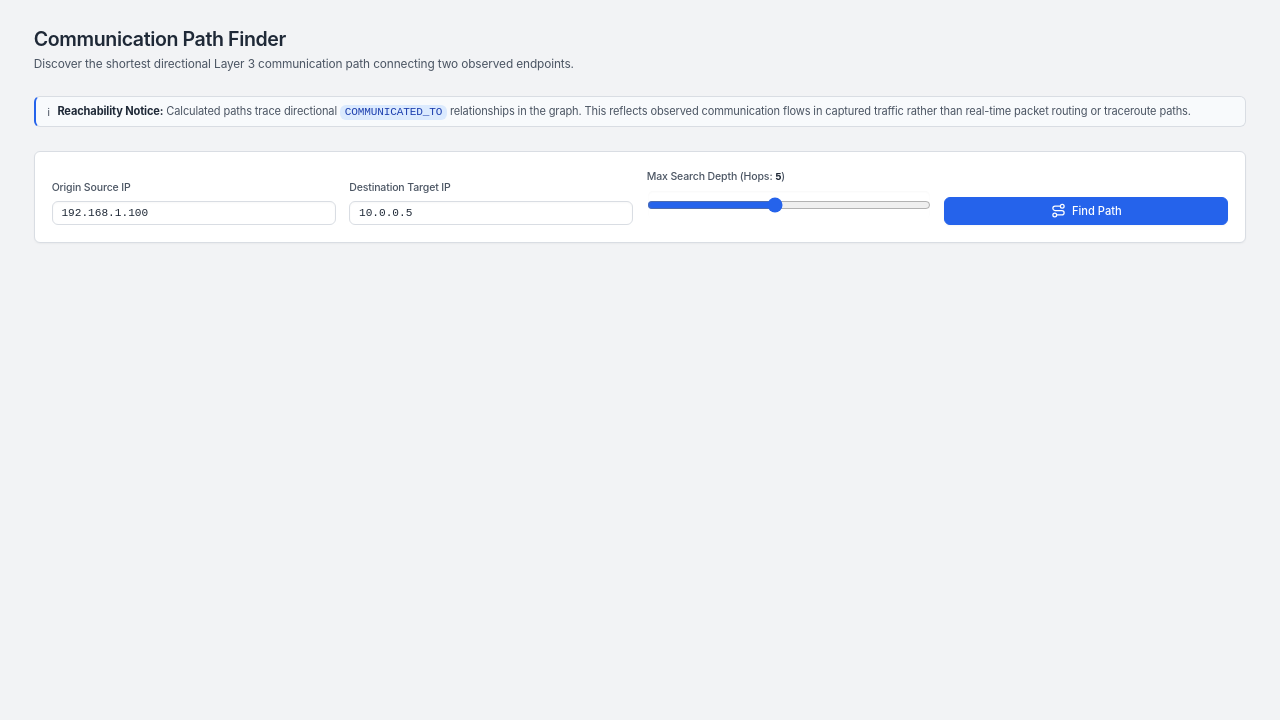
Test: PathFinderPage Component › renders communication path successfully with hop steps and protocols
The width and height of the screenshot is (1280, 720).
Click the button "Find Path": (1086, 211) [944,197,1228,225]
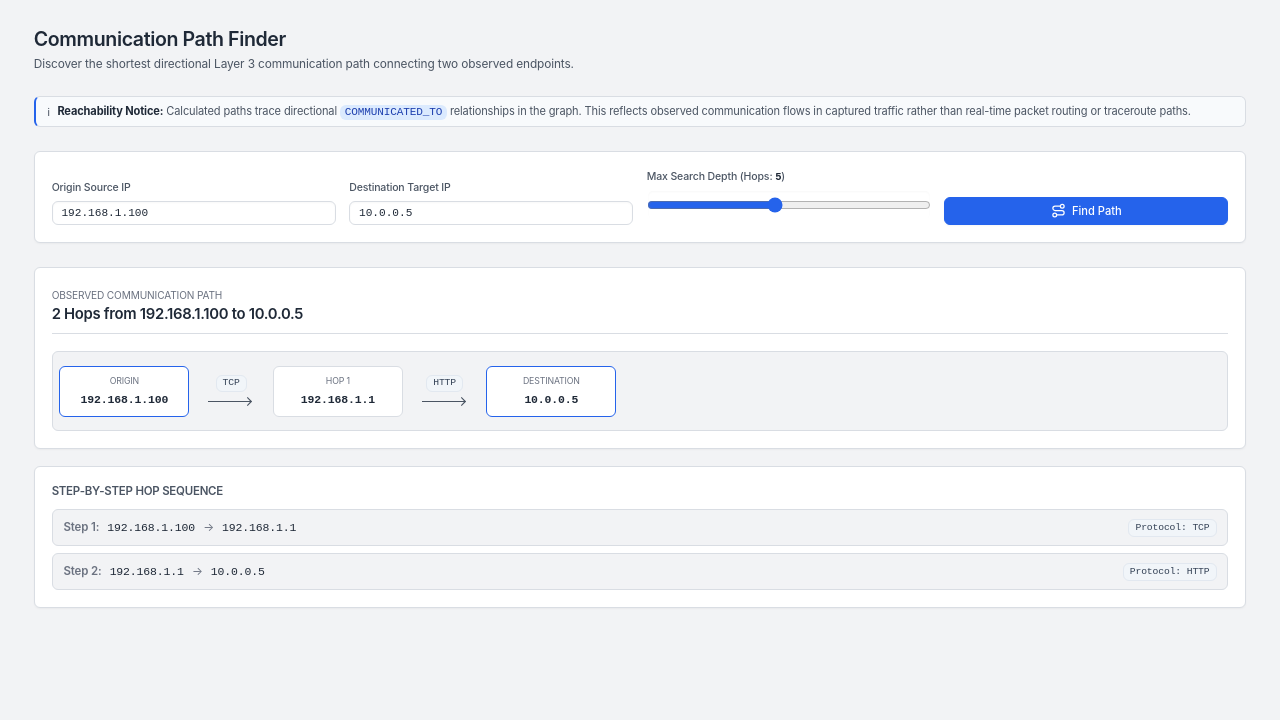
expect the heading "2 Hops from 192.168.1.100 to 10.0.0.5" is shown: met, box [52,305,303,323]
expect the text "Step 1:" is shown: met, box [63,519,99,536]
expect the text "Step 2:" is shown: met, box [63,563,102,580]
